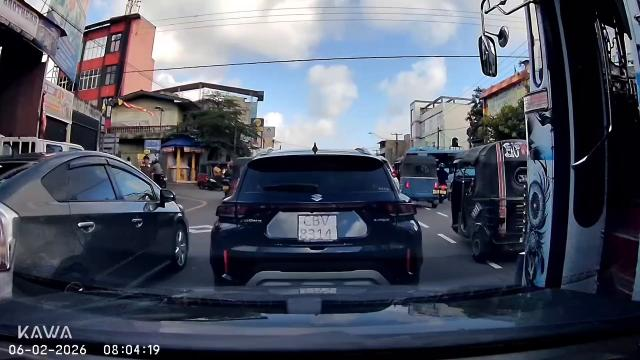number plate: (294, 212, 339, 245)
